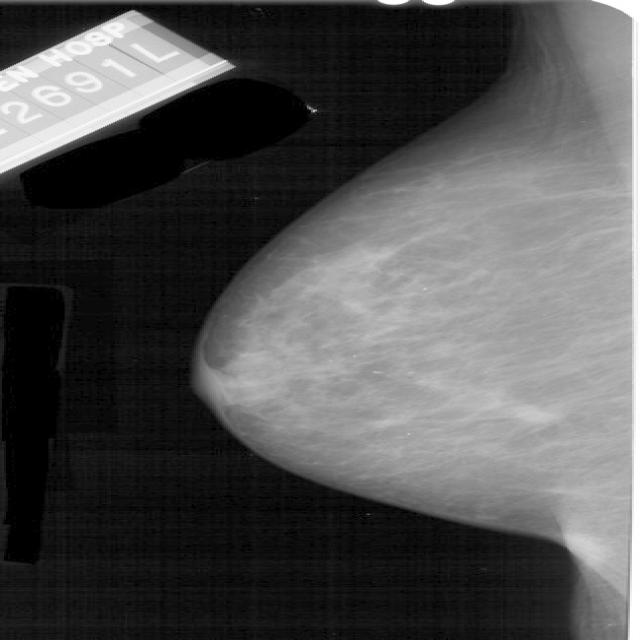tumour: (507, 405, 561, 425)
